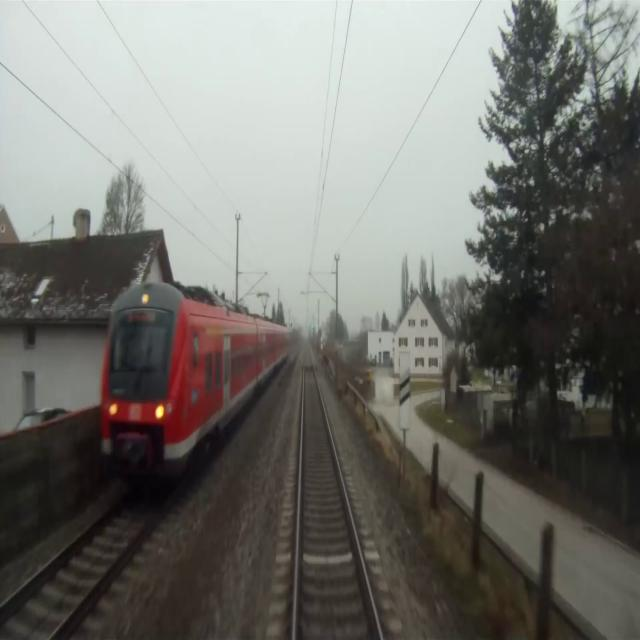rail-track: (296, 343, 378, 639), (0, 492, 163, 639)
